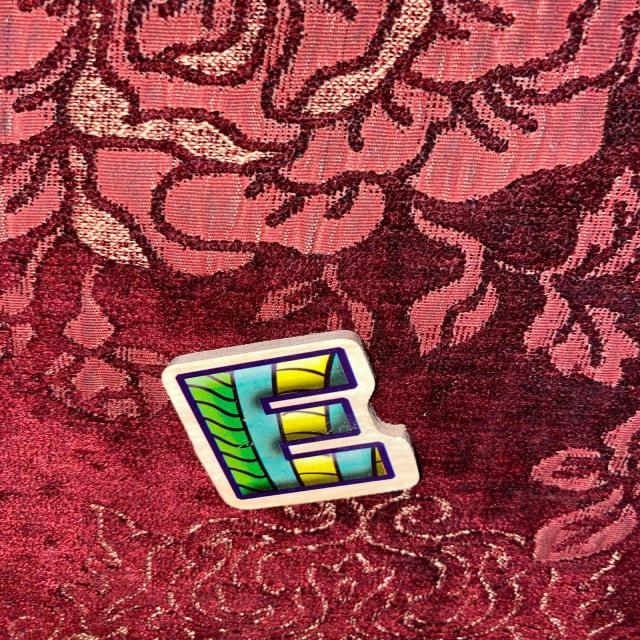E: (163, 331, 419, 508)
